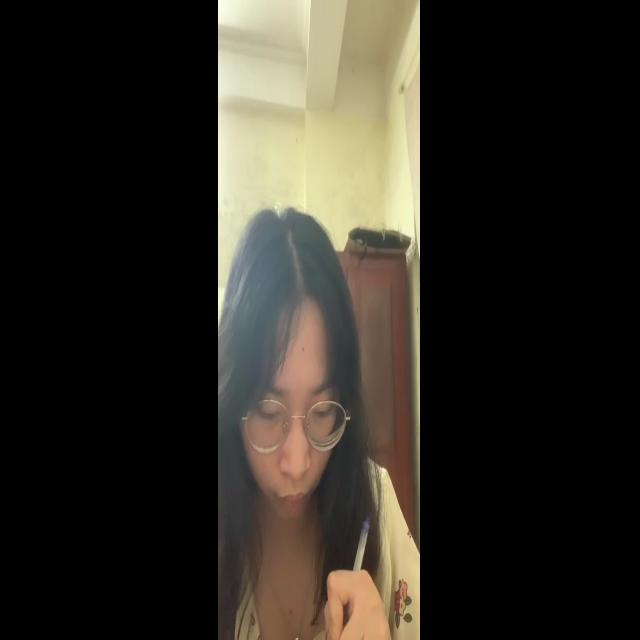student: (224, 193, 393, 640)
